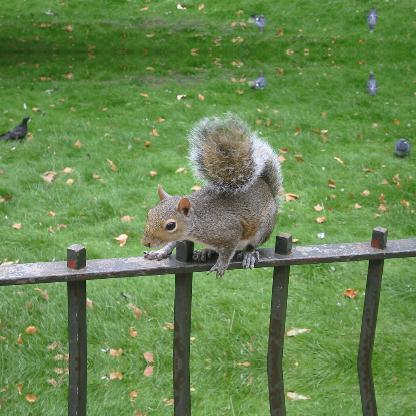Squirrel: (138, 112, 284, 280)
